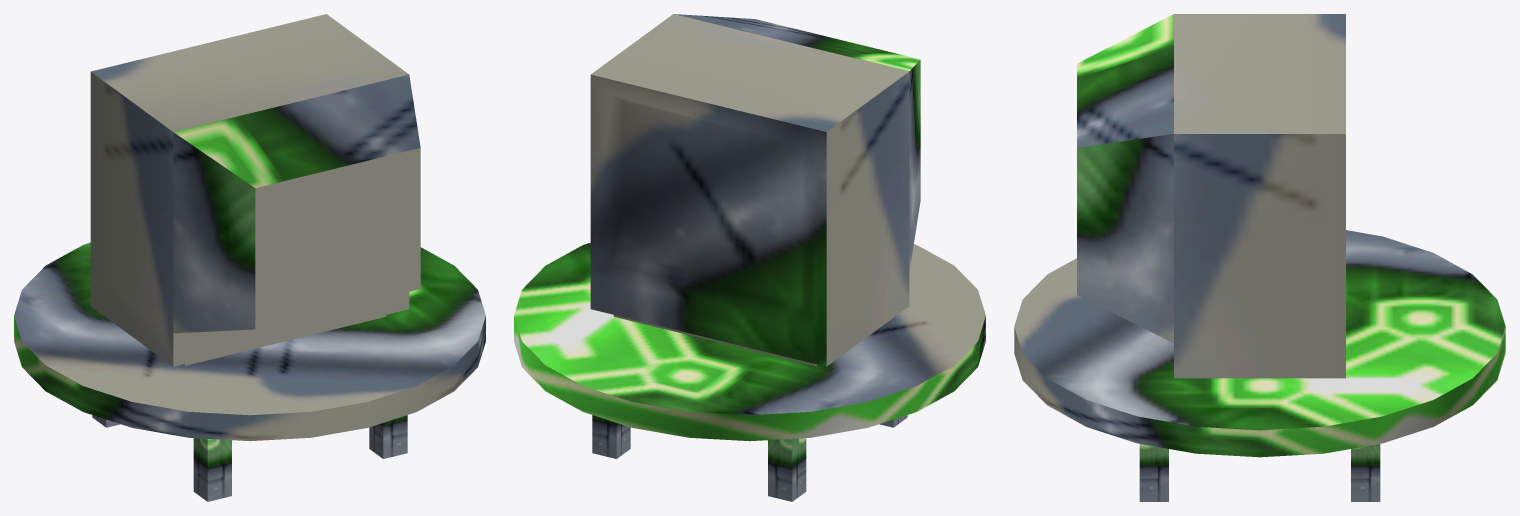
Rendered from ICON.ICO.obj.
3 renders of one model, left to right at view 1: azimuth 30°, elevation 25°; view 2: azimuth 150°, elevation 25°; view 3: azimuth 270°, elevation 25°, orthographic. The views are drawn at different scales.
Bounding box in the file's own units: 2.68 × 2.27 × 2.68.
